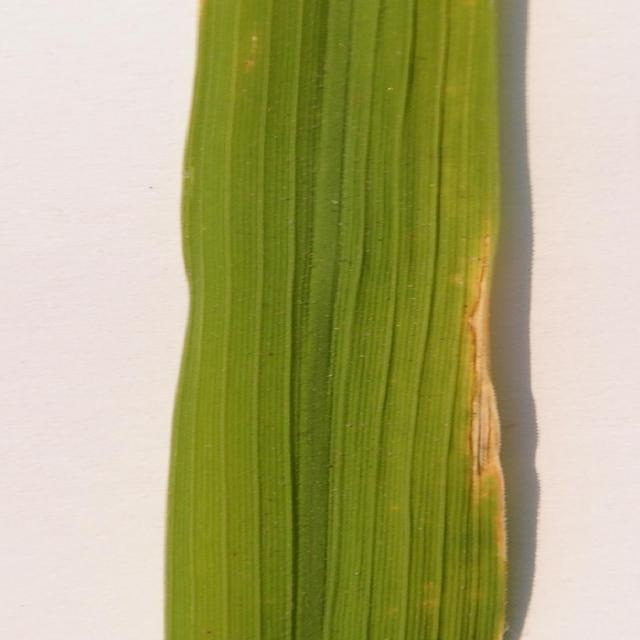leaf blight: (455, 243, 516, 518)
